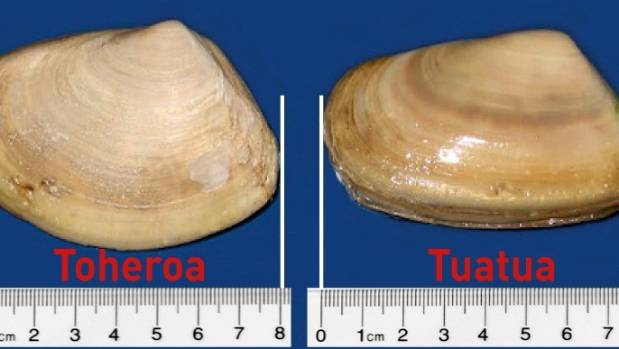tuatua: (329, 22, 619, 227)
